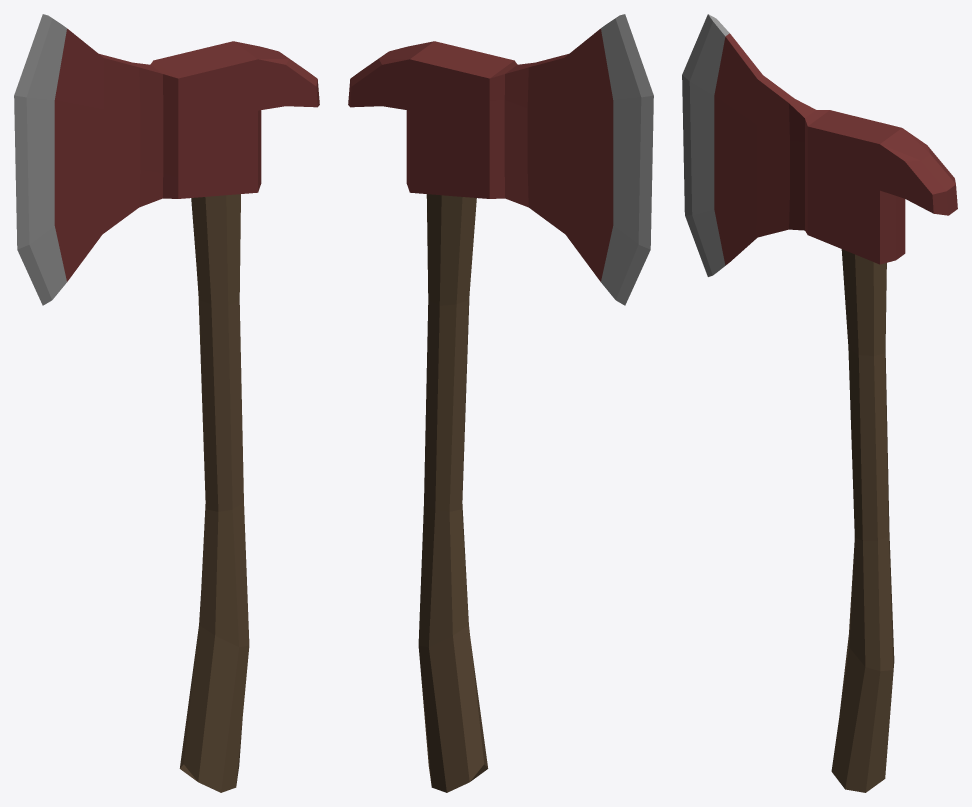
Rendered from Axe.obj.
3 views of the same model, side by side, from view 1: azimuth 30°, elevation 25°; view 2: azimuth 150°, elevation 25°; view 3: azimuth 330°, elevation 25° (orthographic). The views are drawn at different scales.
Visible parts, largest first — view 1: Axe_Cylinder.012; view 2: Axe_Cylinder.012; view 3: Axe_Cylinder.012.
Part boxes in pixels (x1,y1,x2,y2): Axe_Cylinder.012: (14, 14, 319, 792); Axe_Cylinder.012: (348, 14, 653, 792); Axe_Cylinder.012: (682, 14, 957, 792).
Bounding box in the file's own units: 1.26 × 3.26 × 0.1902.
